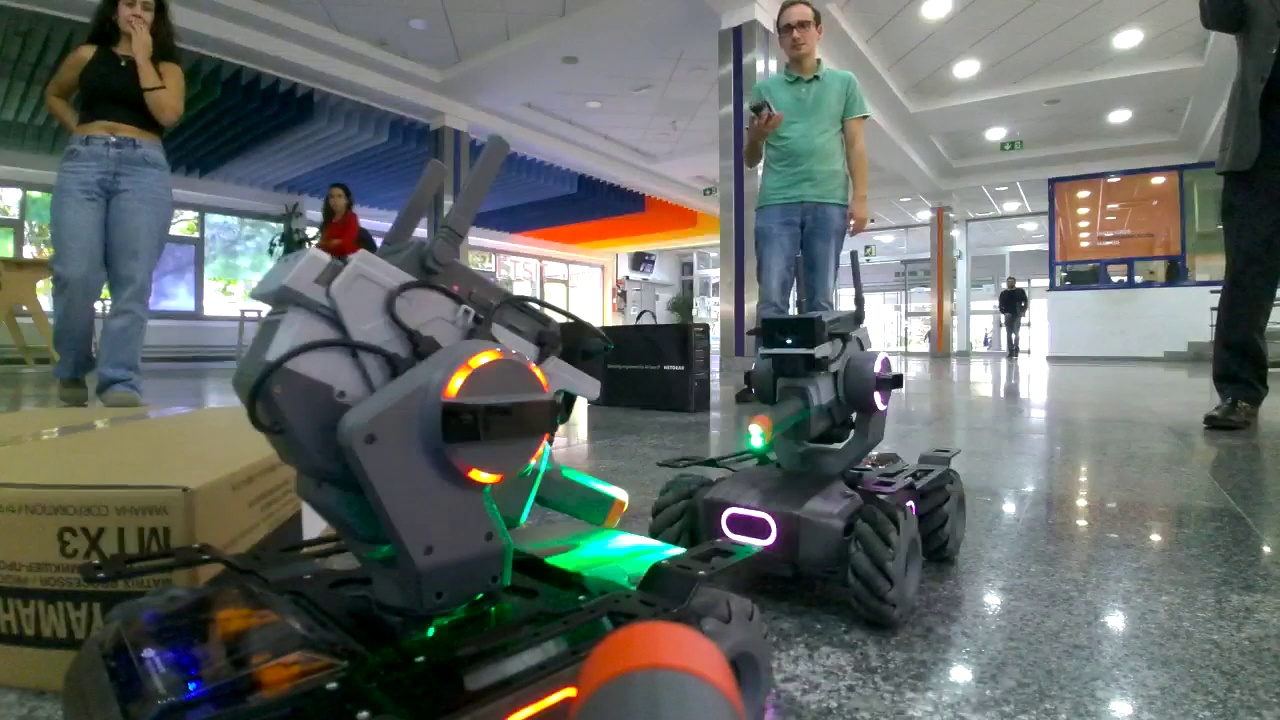robot: (63, 232, 786, 716), (650, 311, 971, 636)
